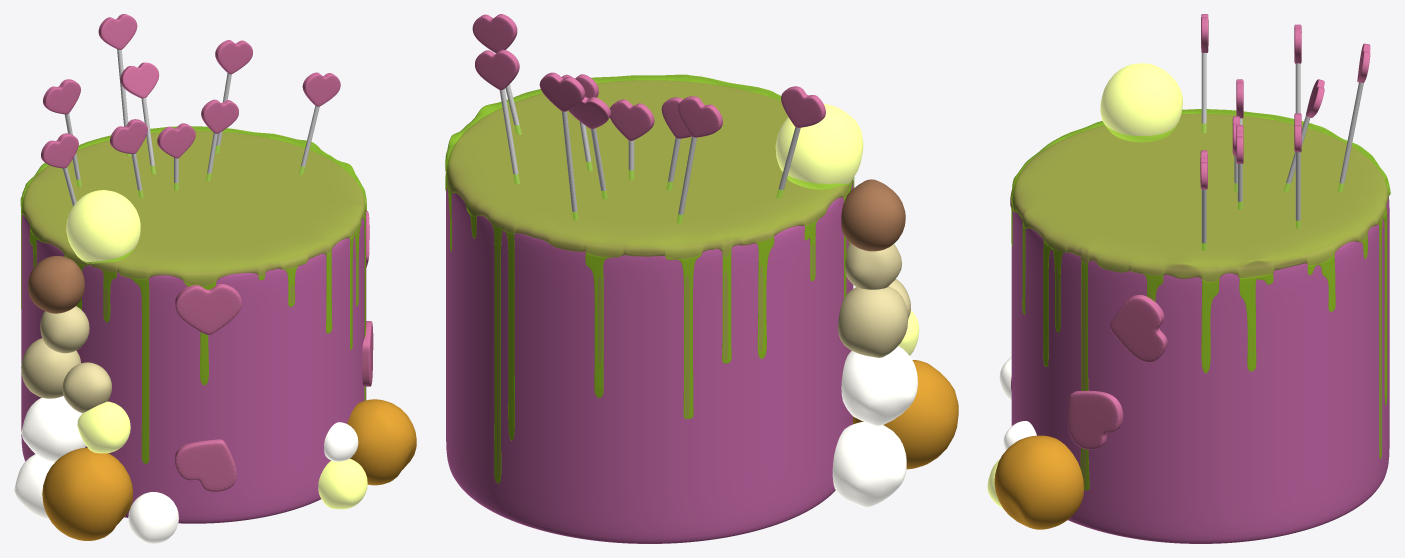
The model's file is Cake_Layer_1_Pink_Topper1_Hearts_GreenDrip.glb.
3 renders of one model, left to right at view 1: azimuth 30°, elevation 25°; view 2: azimuth 150°, elevation 25°; view 3: azimuth 270°, elevation 25°, orthographic. The views are drawn at different scales.
Parts seen in each view (by area): view 1: Circle, Circle.001, Sphere, Sphere.015, Sphere.026, Sphere.002, Sphere.006, Star.003, Star.002, Sphere.005, Sphere.003, Sphere.001 (+15 smaller); view 2: Circle, Circle.001, Sphere.015, Sphere.013, Sphere.002, Sphere, Sphere.005, Sphere.006, Sphere.010, Star.006, Star.005, Star.009 (+6 smaller); view 3: Circle, Circle.001, Sphere.026, Sphere.015, Star.001, Star.004, Cylinder.049, Sphere.027.
Part boxes in pixels (x1=…): Circle: x1=21, y1=131, x2=366, y2=523; Circle.001: x1=20, y1=126, x2=366, y2=463; Sphere: x1=42, y1=448, x2=132, y2=540; Sphere.015: x1=66, y1=190, x2=140, y2=263; Sphere.026: x1=347, y1=399, x2=416, y2=485; Sphere.002: x1=21, y1=396, x2=85, y2=462; Sphere.006: x1=28, y1=256, x2=84, y2=313; Star.003: x1=175, y1=284, x2=241, y2=334; Star.002: x1=175, y1=439, x2=236, y2=491; Sphere.005: x1=21, y1=338, x2=80, y2=398; Sphere.003: x1=77, y1=401, x2=130, y2=453; Sphere.001: x1=128, y1=492, x2=178, y2=543; Circle: x1=446, y1=80, x2=853, y2=543; Circle.001: x1=445, y1=74, x2=854, y2=483; Sphere.015: x1=775, y1=104, x2=863, y2=189; Sphere.013: x1=832, y1=421, x2=906, y2=507; Sphere.002: x1=841, y1=346, x2=917, y2=426; Sphere: x1=853, y1=360, x2=958, y2=469; Sphere.005: x1=838, y1=286, x2=908, y2=357; Sphere.006: x1=841, y1=179, x2=905, y2=251; Sphere.010: x1=845, y1=242, x2=901, y2=289; Star.006: x1=678, y1=96, x2=722, y2=137; Star.005: x1=781, y1=86, x2=825, y2=127; Star.009: x1=475, y1=49, x2=519, y2=90; Circle: x1=1011, y1=114, x2=1389, y2=543; Circle.001: x1=1010, y1=109, x2=1390, y2=490; Sphere.026: x1=994, y1=435, x2=1083, y2=529; Sphere.015: x1=1100, y1=63, x2=1182, y2=141; Star.001: x1=1110, y1=295, x2=1167, y2=362; Star.004: x1=1068, y1=390, x2=1123, y2=449; Cylinder.049: x1=1338, y1=82, x2=1363, y2=191; Sphere.027: x1=1003, y1=421, x2=1036, y2=450.
Bounding box in the file's own units: 0.1763 × 0.1867 × 0.159.
